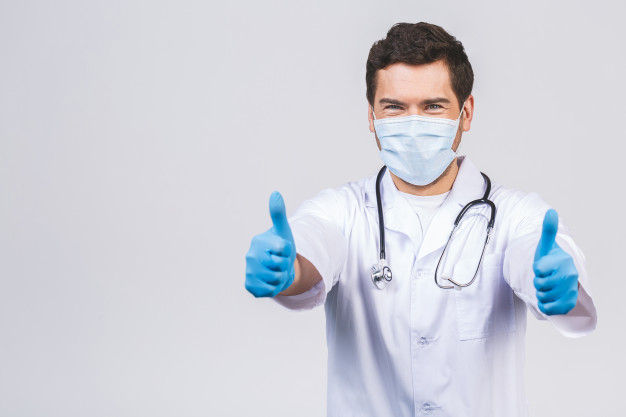Gloves: (236, 185, 300, 301), (527, 207, 583, 315)
with_mask: (376, 95, 456, 186)
